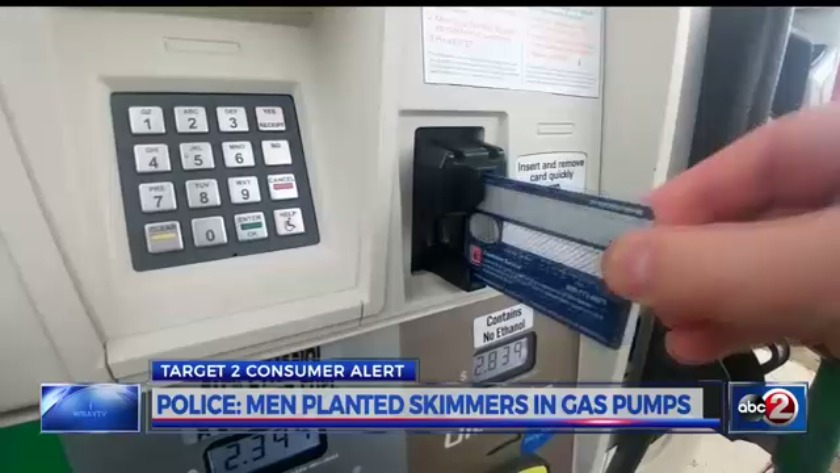tarjeta: (461, 170, 657, 352)
